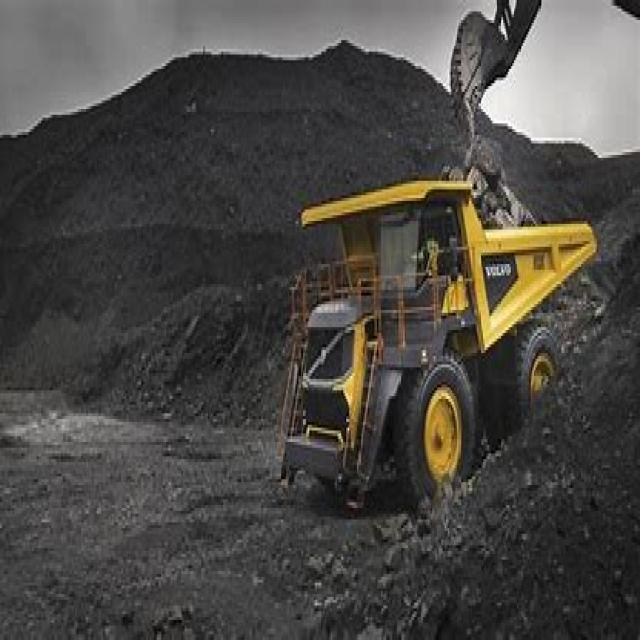dump_truck: (271, 169, 598, 496)
